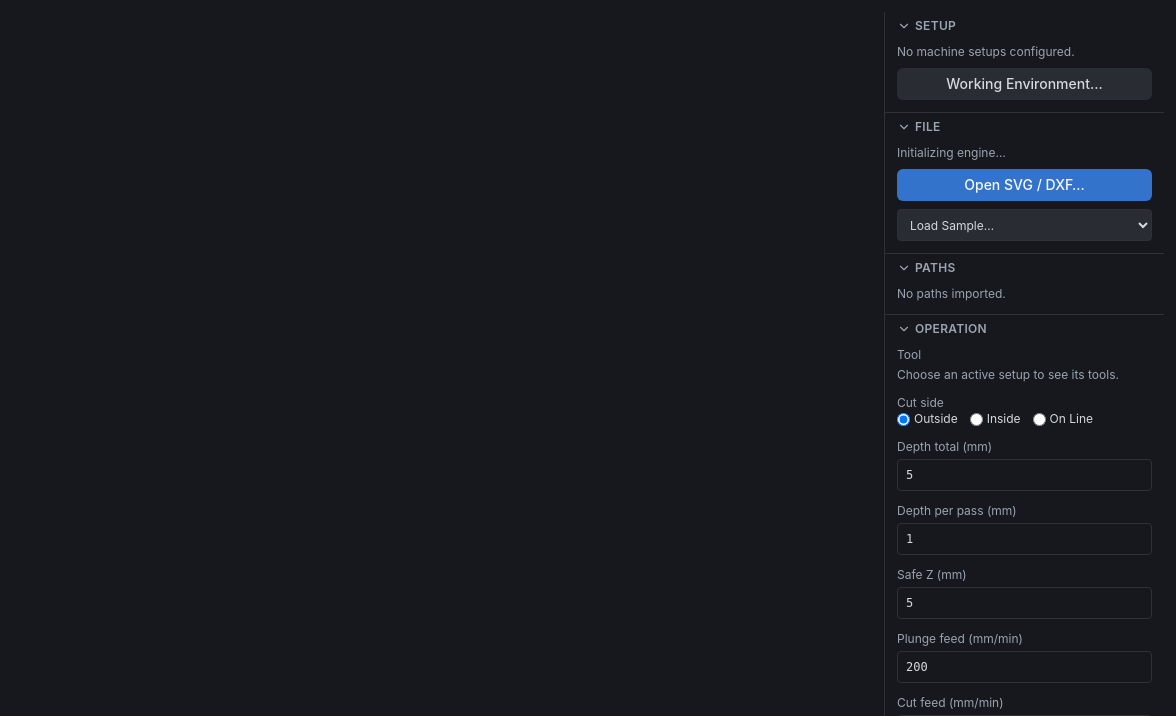
Test: Mode2ProfileMode › fetches and parses the SVG sample when chosen
Select "Star (SVG)" in the dropdown named "Load Sample" at x=1024, y=225, box [897, 209, 1152, 241]
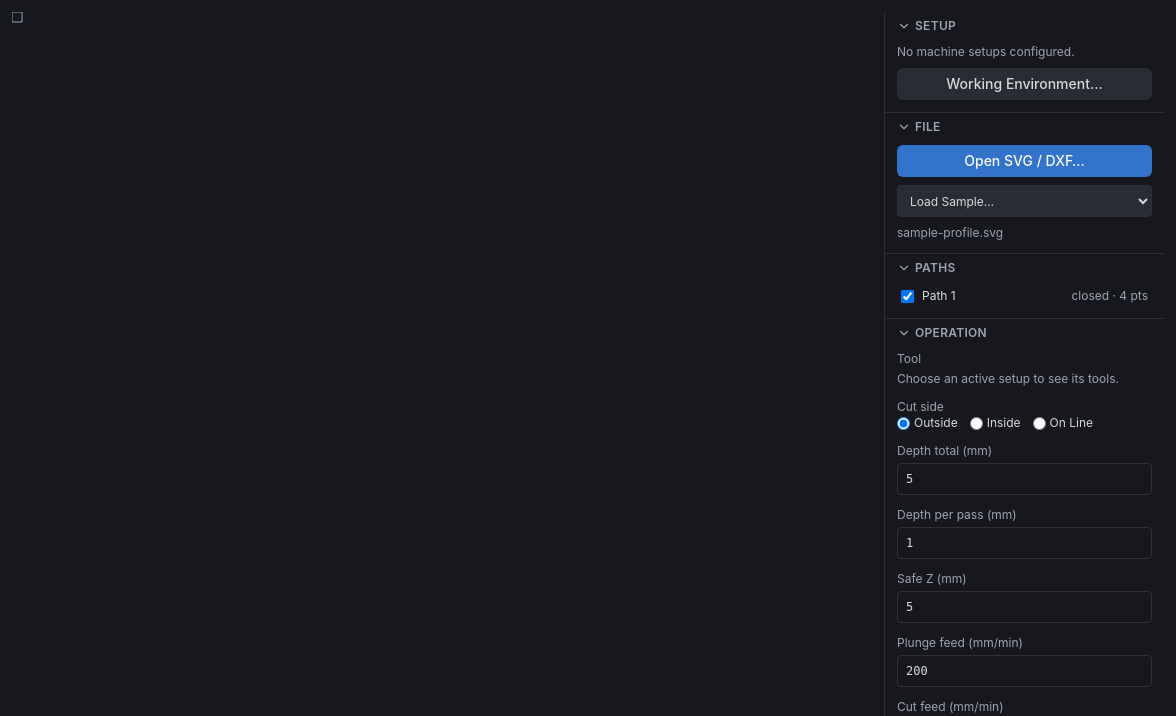
Result: the text "sample-profile.svg" is shown at [897, 225, 1003, 240]
Result: the checkbox labelled "Path 1" is shown at [901, 290, 914, 302]
